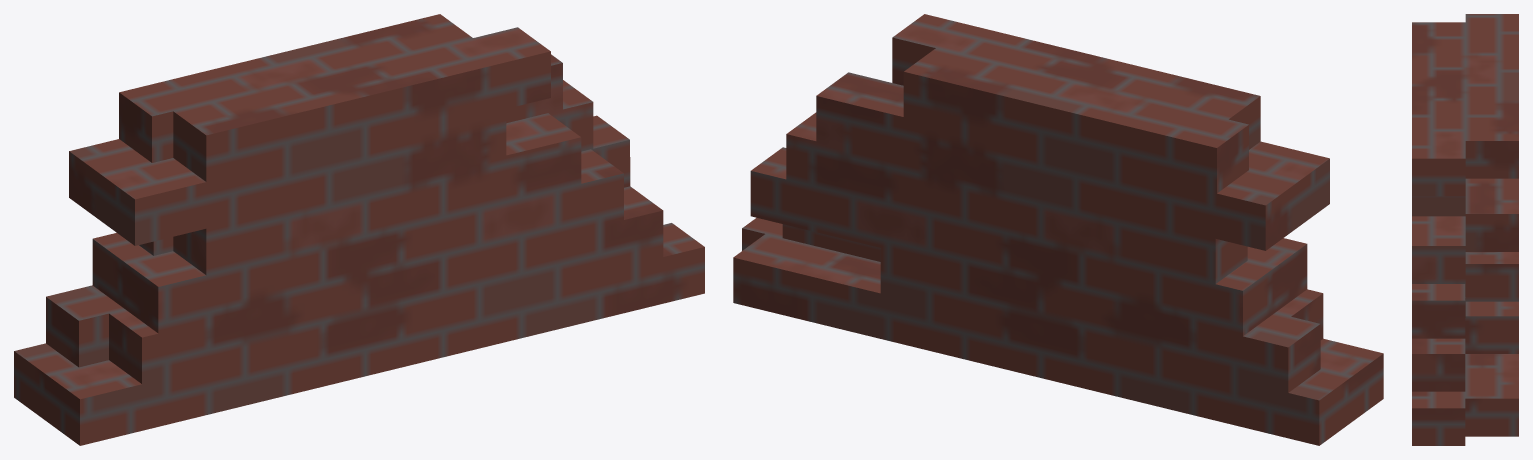
Rendered from BrokenBrickWall.fbx.
3 views of the same model, side by side, from view 1: azimuth 30°, elevation 25°; view 2: azimuth 150°, elevation 25°; view 3: azimuth 270°, elevation 25° (orthographic). The views are drawn at different scales.
Visible parts, largest first — view 1: Cube.125; view 2: Cube.125; view 3: Cube.125.
Part boxes in pixels (left/top/right/bottom): Cube.125: left=14, top=14, right=704, bottom=445; Cube.125: left=733, top=14, right=1383, bottom=445; Cube.125: left=1412, top=14, right=1518, bottom=445.
Size of the model in its own units: 242 by 104 by 44.31.
